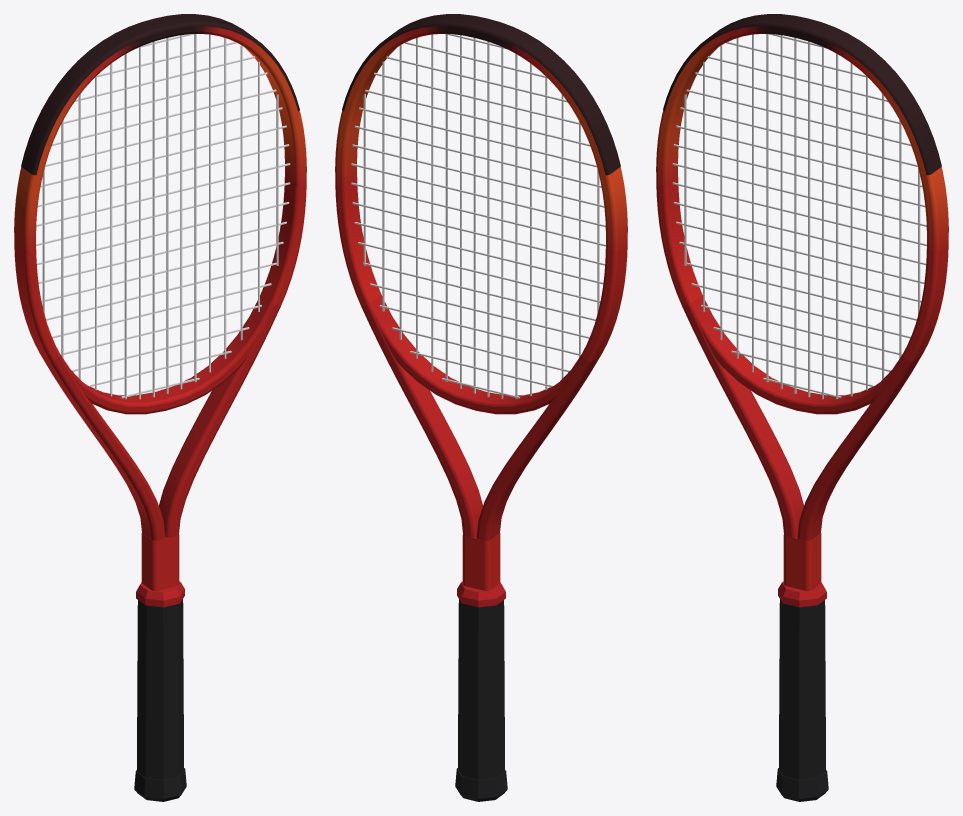
File: dunlop-cx-200-16x19-2027.glb
3 views of the same model, side by side, from view 1: azimuth 30°, elevation 25°; view 2: azimuth 150°, elevation 25°; view 3: azimuth 330°, elevation 25° (orthographic).
Visible parts, largest first — view 1: frame, strings_mains, strings_crosses, grip, bumper, butt_cap, collar; view 2: frame, strings_mains, strings_crosses, grip, bumper, butt_cap, collar; view 3: frame, strings_mains, strings_crosses, grip, bumper, butt_cap, collar.
Part boxes in pixels (x1,y1,x2,y2): frame: (14,26,306,590); strings_mains: (42,34,278,399); strings_crosses: (36,34,290,398); grip: (137,599,183,779); bumper: (21,14,299,175); butt_cap: (134,768,186,801); collar: (136,581,184,607); frame: (335,26,627,590); strings_mains: (363,34,599,398); strings_crosses: (351,34,605,398); grip: (458,599,504,779); bumper: (342,14,620,175); butt_cap: (455,768,507,801); collar: (457,581,505,607); frame: (656,26,948,590); strings_mains: (684,34,920,399); strings_crosses: (672,34,926,398); grip: (779,599,825,779); bumper: (663,14,941,175); butt_cap: (776,768,828,801); collar: (778,581,826,607).
Size of the model in its own units: 0.2634 by 0.6861 by 0.0396.
